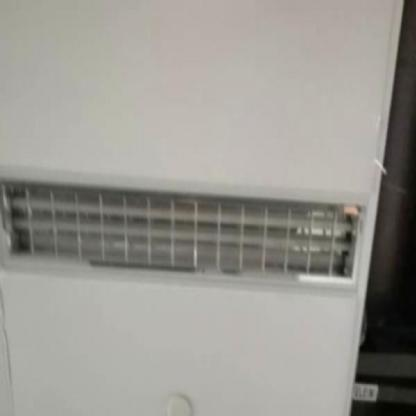light_off: (4, 96, 371, 312)
